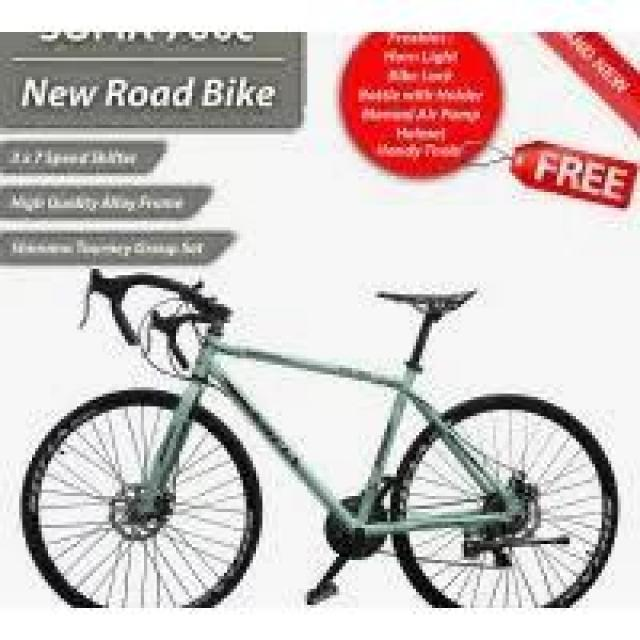bicycle: (30, 267, 632, 610)
